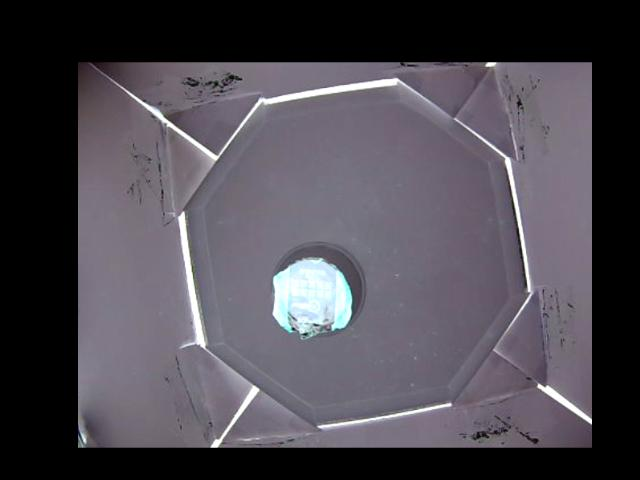Bottle: (270, 240, 367, 339)
